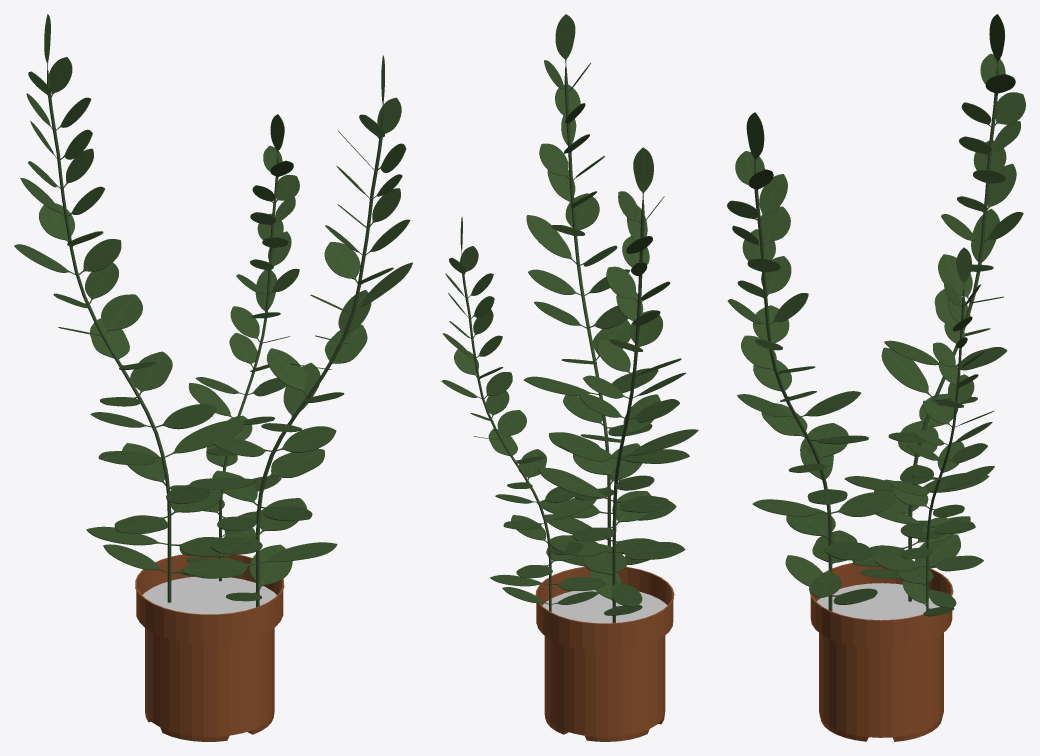
Rendered from Planta2_Espera.fbx.
The picture shows the model from 3 angles, left to right: view 1: azimuth 30°, elevation 25°; view 2: azimuth 150°, elevation 25°; view 3: azimuth 270°, elevation 25°; orthographic projection. The views are drawn at different scales.
Parts seen in each view (by area): view 1: Plant; view 2: Plant; view 3: Plant.
Boxes of the visible parts, x1,y1,x2,y2 form: Plant: (14,14,412,741); Plant: (441,14,698,741); Plant: (727,14,1025,741).
Bounding box in the file's own units: 61.11 × 141 × 58.35.
